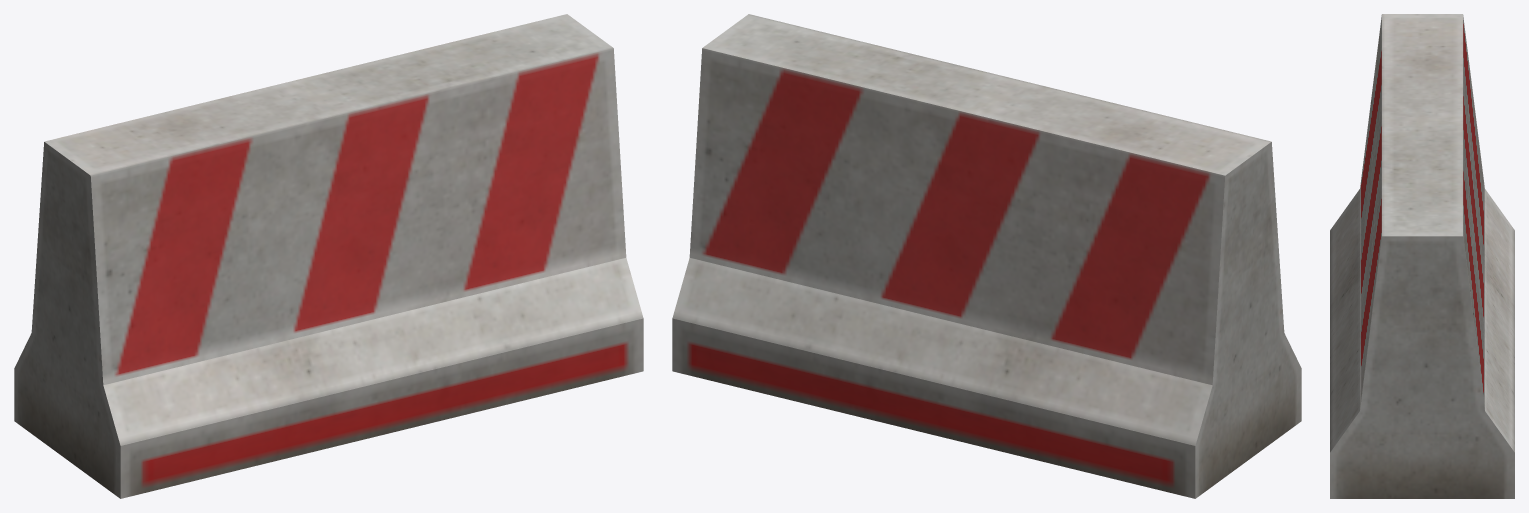
The model's file is barrier_05.fbx.
The picture shows the model from 3 angles, left to right: view 1: azimuth 30°, elevation 25°; view 2: azimuth 150°, elevation 25°; view 3: azimuth 270°, elevation 25°; orthographic projection. The views are drawn at different scales.
Parts seen in each view (by area): view 1: barrier_05; view 2: barrier_05; view 3: barrier_05.
Part boxes in pixels (x1,y1,x2,y2): barrier_05: (14, 14, 643, 498); barrier_05: (672, 14, 1301, 498); barrier_05: (1330, 14, 1514, 498).
Size of the model in its own units: 4.34 by 2.39 by 1.53.
